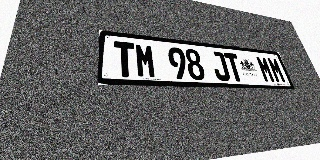8: (184, 48, 206, 80)
9: (167, 47, 189, 80)
J: (209, 51, 231, 81)
M: (135, 43, 157, 78), (255, 56, 276, 83), (266, 57, 287, 83)
T: (114, 41, 136, 78), (223, 52, 245, 82)
